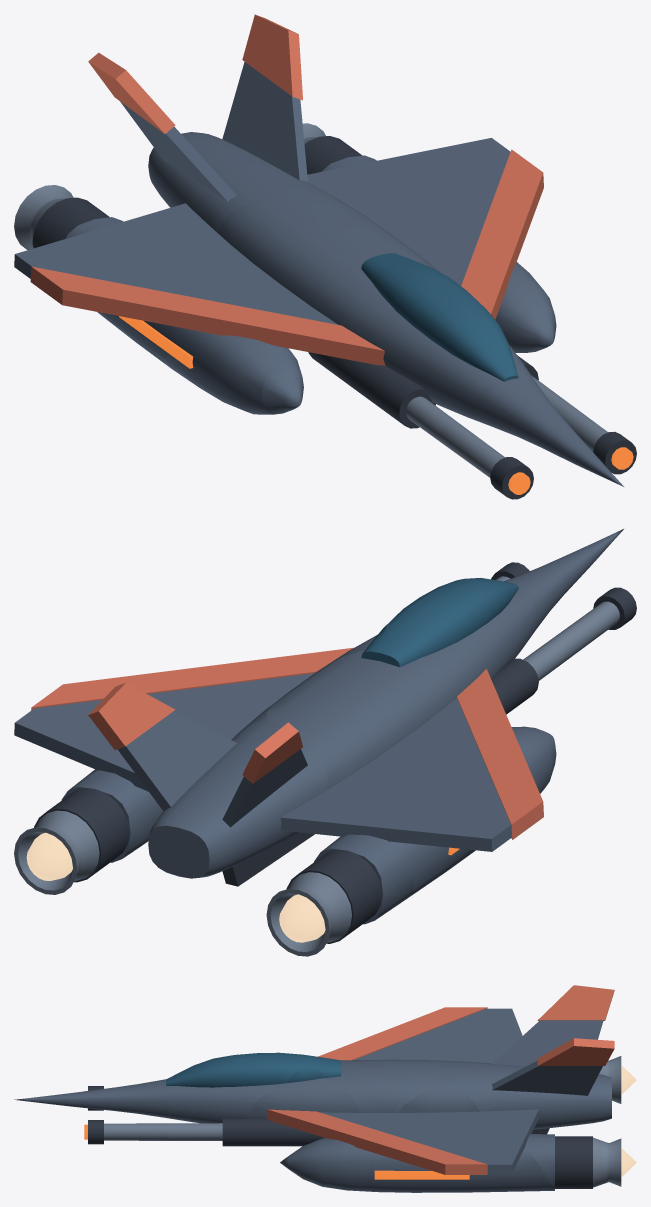
The model's file is void_interceptor_wreck.glb.
The picture shows the model from 3 angles, top to bottom: view 1: azimuth 30°, elevation 25°; view 2: azimuth 150°, elevation 25°; view 3: azimuth 270°, elevation 25°; orthographic projection. The views are drawn at different scales.
Visible parts, largest first — view 1: void_interceptor_wreck_01, void_interceptor_wreck_07, void_interceptor_wreck_02, void_interceptor_wreck_06, void_interceptor_wreck_04, void_interceptor_wreck_00, void_interceptor_wreck_03, void_interceptor_wreck_05, void_interceptor_wreck_08; view 2: void_interceptor_wreck_02, void_interceptor_wreck_01, void_interceptor_wreck_05, void_interceptor_wreck_07, void_interceptor_wreck_04, void_interceptor_wreck_06, void_interceptor_wreck_00, void_interceptor_wreck_03, void_interceptor_wreck_08; view 3: void_interceptor_wreck_02, void_interceptor_wreck_06, void_interceptor_wreck_03, void_interceptor_wreck_07, void_interceptor_wreck_01, void_interceptor_wreck_04, void_interceptor_wreck_00, void_interceptor_wreck_08, void_interceptor_wreck_05.
Part boxes in pixels (left/top/right/bottom): void_interceptor_wreck_01: left=164, top=196, right=431, bottom=414; void_interceptor_wreck_07: left=262, top=261, right=569, bottom=442; void_interceptor_wreck_02: left=148, top=14, right=400, bottom=234; void_interceptor_wreck_06: left=326, top=138, right=543, bottom=262; void_interceptor_wreck_04: left=14, top=232, right=185, bottom=362; void_interceptor_wreck_00: left=439, top=374, right=636, bottom=499; void_interceptor_wreck_03: left=415, top=234, right=556, bottom=380; void_interceptor_wreck_05: left=14, top=185, right=191, bottom=315; void_interceptor_wreck_08: left=88, top=52, right=224, bottom=237; void_interceptor_wreck_02: left=14, top=683, right=338, bottom=894; void_interceptor_wreck_01: left=265, top=632, right=556, bottom=852; void_interceptor_wreck_05: left=266, top=796, right=413, bottom=956; void_interceptor_wreck_07: left=385, top=578, right=564, bottom=742; void_interceptor_wreck_04: left=357, top=754, right=543, bottom=895; void_interceptor_wreck_06: left=14, top=668, right=288, bottom=858; void_interceptor_wreck_00: left=491, top=529, right=636, bottom=663; void_interceptor_wreck_03: left=192, top=625, right=386, bottom=695; void_interceptor_wreck_08: left=230, top=722, right=352, bottom=813; void_interceptor_wreck_02: left=455, top=1038, right=636, bottom=1190; void_interceptor_wreck_06: left=365, top=1082, right=552, bottom=1192; void_interceptor_wreck_03: left=221, top=1066, right=373, bottom=1191; void_interceptor_wreck_07: left=166, top=1052, right=315, bottom=1146; void_interceptor_wreck_01: left=314, top=1032, right=480, bottom=1117; void_interceptor_wreck_04: left=382, top=1007, right=522, bottom=1062; void_interceptor_wreck_00: left=14, top=1079, right=170, bottom=1144; void_interceptor_wreck_08: left=501, top=985, right=614, bottom=1055; void_interceptor_wreck_05: left=489, top=1050, right=636, bottom=1103.
Bounding box in the file's own units: 3.93 × 1.61 × 6.57.
